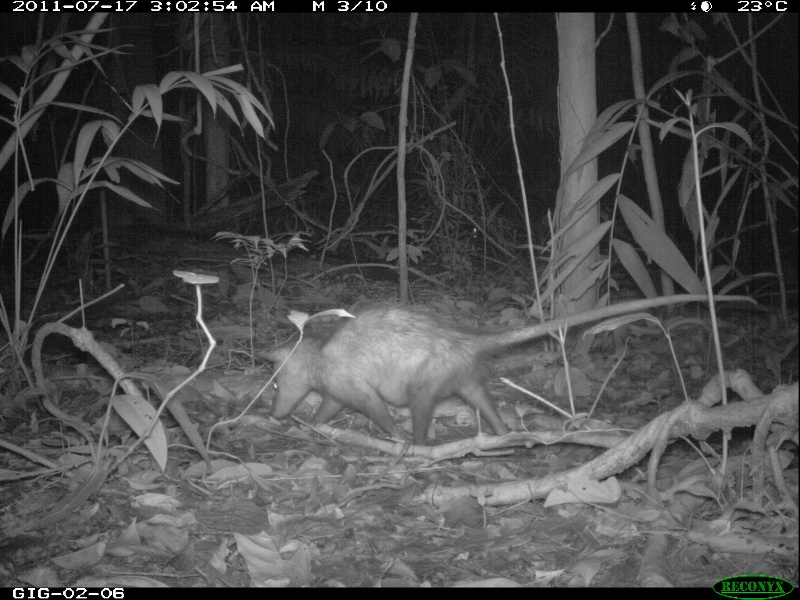opossum: (259, 284, 758, 447)
